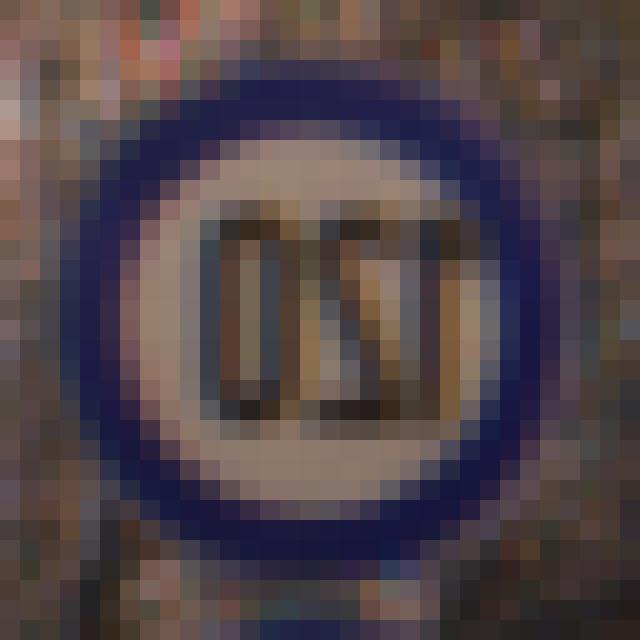SPEED LIMIT 120: (64, 73, 560, 576)
